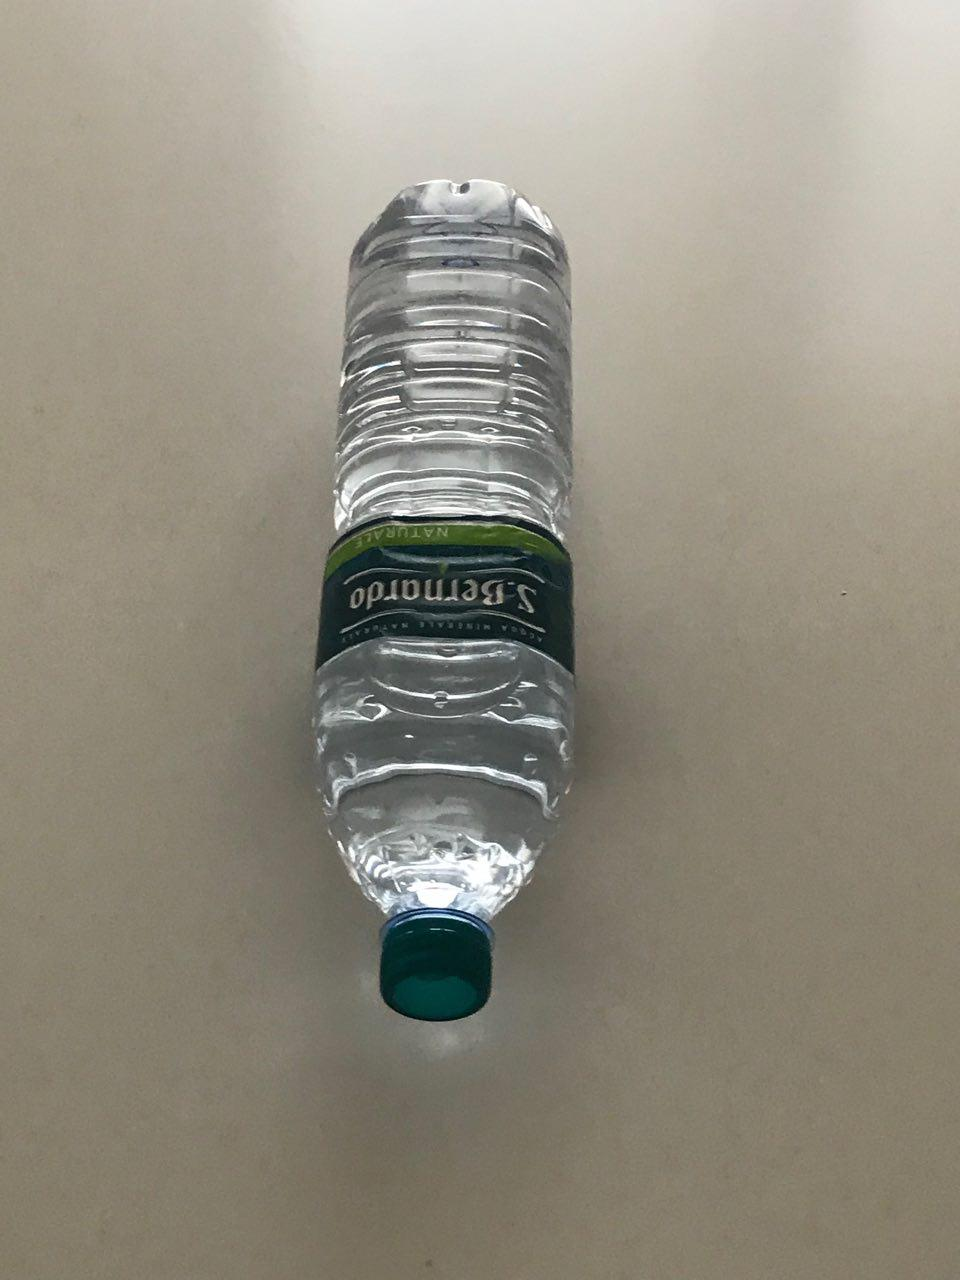san_bernardo: (310, 179, 578, 1025)
